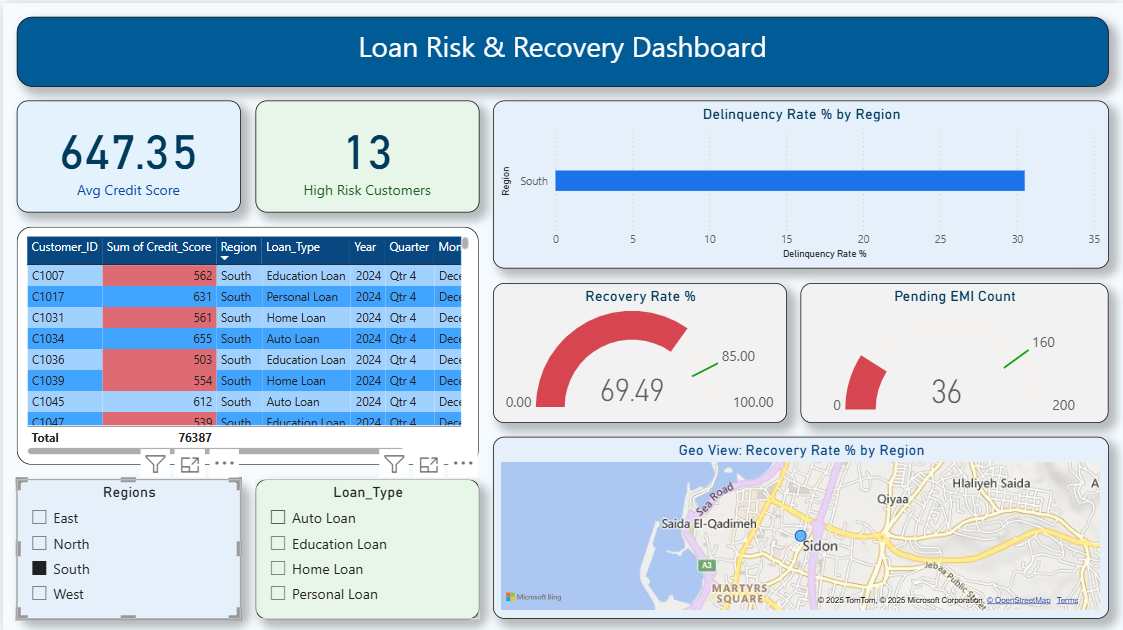

Layout of this report page (visuals, bound fields, positions):
{"tool":"powerbi","page":{"name":"Page 1","canvas":[1280,720],"ordinal":0},"visuals":[{"type":"textbox","box":[16,16,1248,80],"z":0},{"type":"card","fields":{"Values":["Loan_Risk_Recovery_Dataset.High Risk Customers"]},"box":[288,112,256,128],"z":1000},{"type":"gauge","fields":{"Y":["Loan_Risk_Recovery_Dataset.Recovery Rate %"]},"box":[560,320,336,160],"z":2000},{"type":"card","fields":{"Values":["Loan_Risk_Recovery_Dataset.Avg Credit Score"]},"box":[16,112,256,128],"z":3000},{"type":"clusteredBarChart","fields":{"Y":["Loan_Risk_Recovery_Dataset.Delinquency Rate %"],"Category":["Loan_Risk_Recovery_Dataset.Region"]},"box":[560,112,704,192],"z":4000},{"type":"tableEx","fields":{"Values":["Loan_Risk_Recovery_Dataset.Customer_ID","Sum(Loan_Risk_Recovery_Dataset.Credit_Score)","Loan_Risk_Recovery_Dataset.Region","Loan_Risk_Recovery_Dataset.Loan_Type","Loan_Risk_Recovery_Dataset.EMI_Due.Variation.Date Hierarchy.Year","Loan_Risk_Recovery_Dataset.EMI_Due.Variation.Date Hierarchy.Quarter","Loan_Risk_Recovery_Dataset.EMI_Due.Variation.Date Hierarchy.Month","Loan_Risk_Recovery_Dataset.EMI_Due.Variation.Date Hierarchy.Day"]},"box":[16,256,528,272],"z":5000},{"type":"slicer","title":"Regions","fields":{"Values":["Loan_Risk_Recovery_Dataset.Region"]},"box":[16,544,256,160],"z":6000},{"type":"slicer","title":"Loan_Type","fields":{"Values":["Loan_Risk_Recovery_Dataset.Loan_Type"]},"box":[288,544,256,160],"z":7000},{"type":"gauge","fields":{"Y":["Loan_Risk_Recovery_Dataset.Pending EMI Count"]},"box":[912,320,352,160],"z":8000},{"type":"map","title":"Geo View: Recovery Rate % by Region","fields":{"Category":["Loan_Risk_Recovery_Dataset.Region"],"Size":["Loan_Risk_Recovery_Dataset.Recovery Rate %"]},"box":[560,496,704,208],"z":9000}]}

Visuals, with their boxes in screenshot pixels (x1, y1, x2, y2), scaled from the page's 1280x720 canvas onto the 1123x630 screenshot:
textbox: <box>14,14,1109,84</box>
card - Loan_Risk_Recovery_Dataset.High Risk Customers: <box>253,98,477,210</box>
gauge - Loan_Risk_Recovery_Dataset.Recovery Rate %: <box>491,280,786,420</box>
card - Loan_Risk_Recovery_Dataset.Avg Credit Score: <box>14,98,239,210</box>
clusteredBarChart - Loan_Risk_Recovery_Dataset.Delinquency Rate % x Loan_Risk_Recovery_Dataset.Region: <box>491,98,1109,266</box>
tableEx - Loan_Risk_Recovery_Dataset.Customer_ID x Sum(Loan_Risk_Recovery_Dataset.Credit_Score): <box>14,224,477,462</box>
"Regions" slicer: <box>14,476,239,616</box>
"Loan_Type" slicer: <box>253,476,477,616</box>
gauge - Loan_Risk_Recovery_Dataset.Pending EMI Count: <box>800,280,1109,420</box>
"Geo View: Recovery Rate % by Region" map: <box>491,434,1109,616</box>
